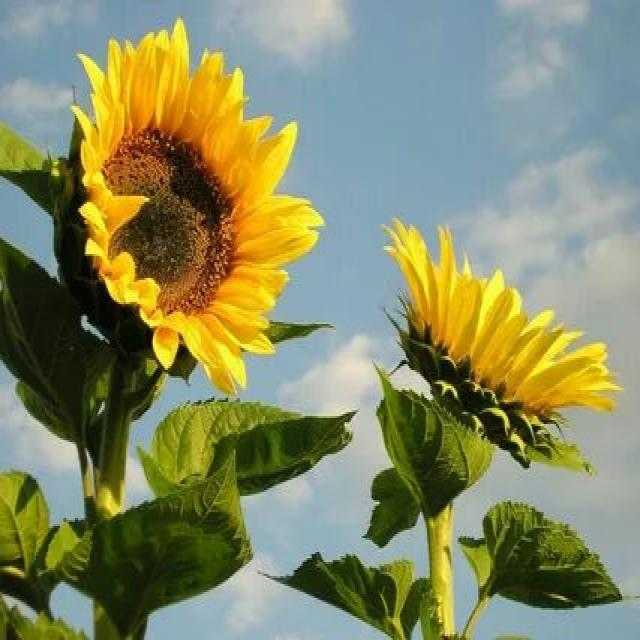sunflower: (48, 8, 328, 386), (369, 206, 625, 454)
